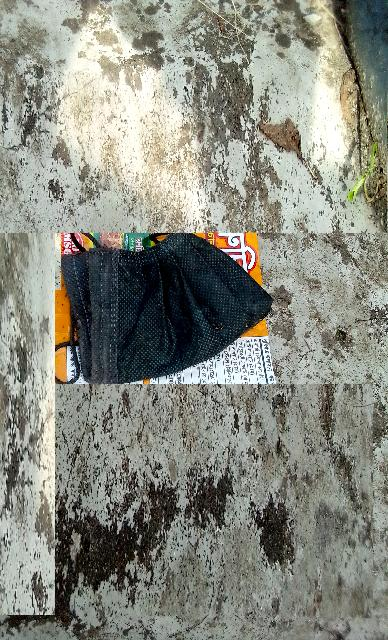mask: (52, 183, 279, 396)
